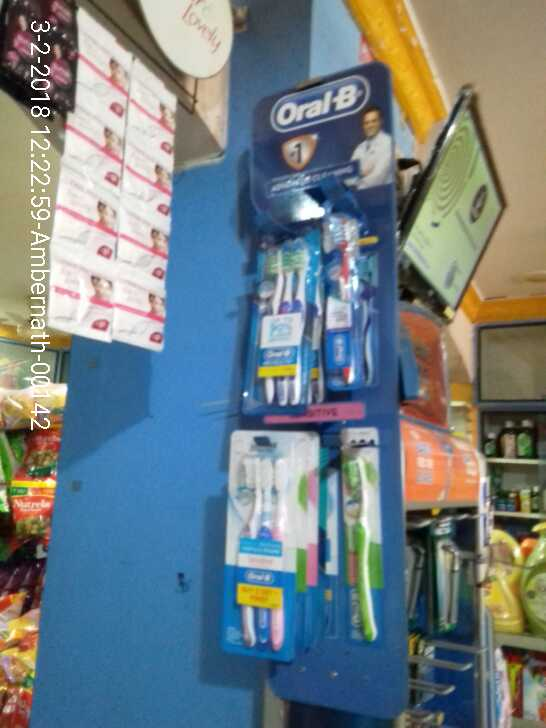oralb: (218, 430, 301, 664), (245, 226, 318, 406), (337, 429, 393, 657)
